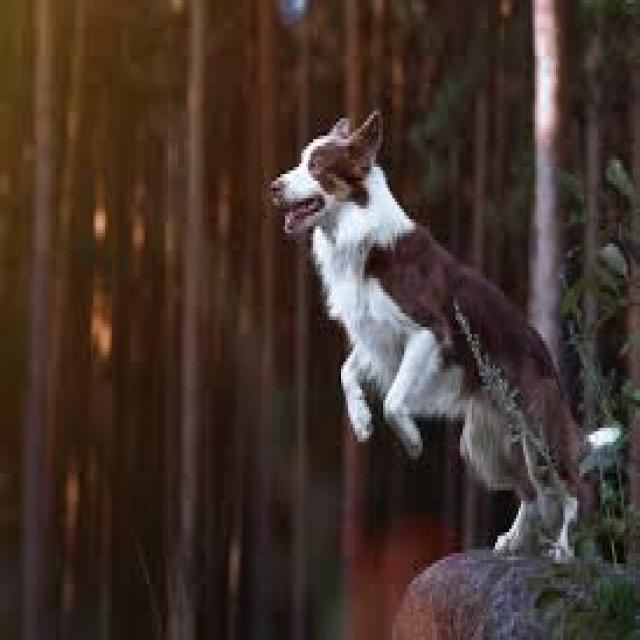BORDER_COLLIE: (260, 102, 622, 569)
